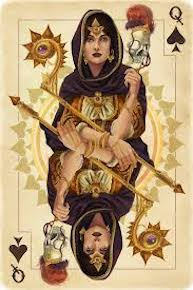QueenOfSpades: (1, 2, 193, 290)
